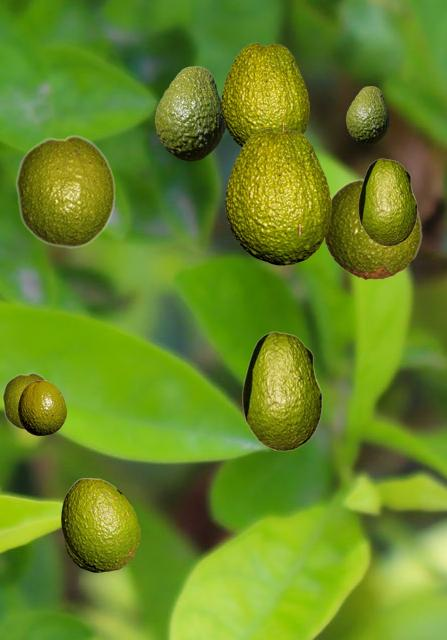avocado: (225, 128, 330, 264), (15, 134, 115, 248), (323, 178, 422, 279), (242, 331, 321, 450), (221, 42, 308, 146), (61, 478, 139, 570), (155, 66, 224, 160), (358, 158, 416, 245), (2, 372, 46, 430), (18, 380, 65, 434), (346, 86, 388, 144), (64, 540, 107, 571)
